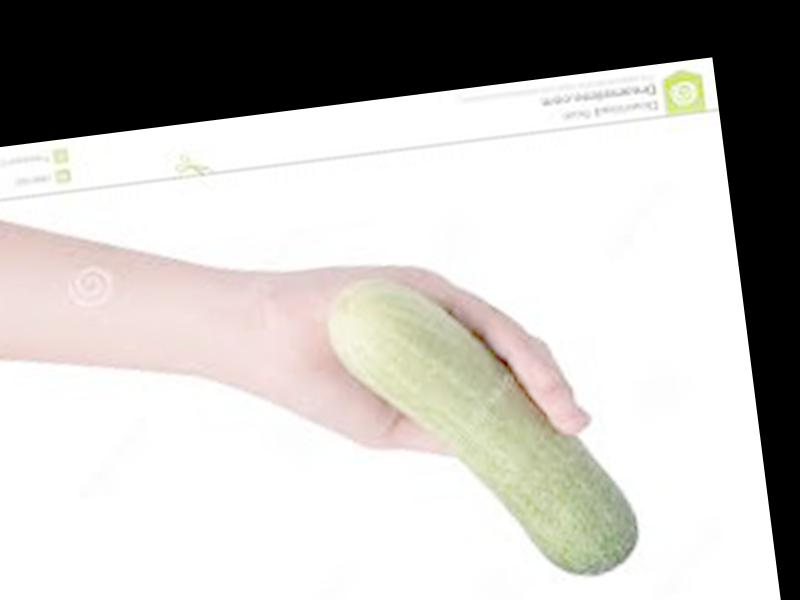Cucumber: (323, 253, 639, 600)
